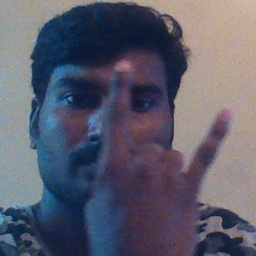V: (79, 57, 237, 256)
